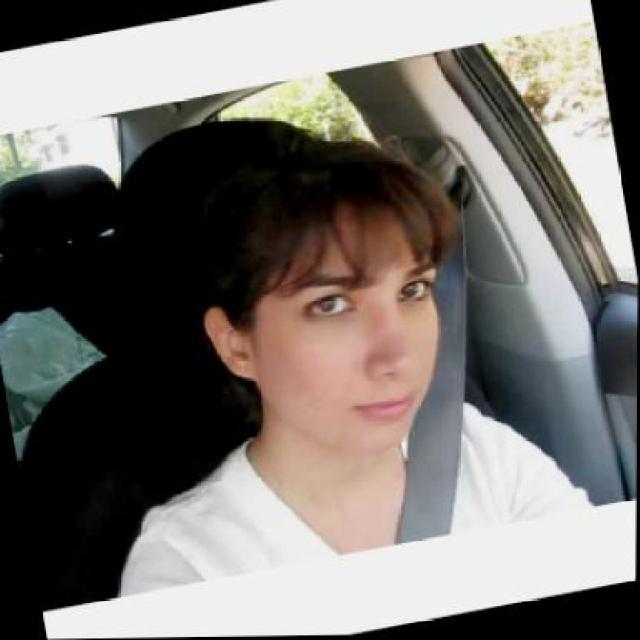attentif: (178, 120, 464, 480)
